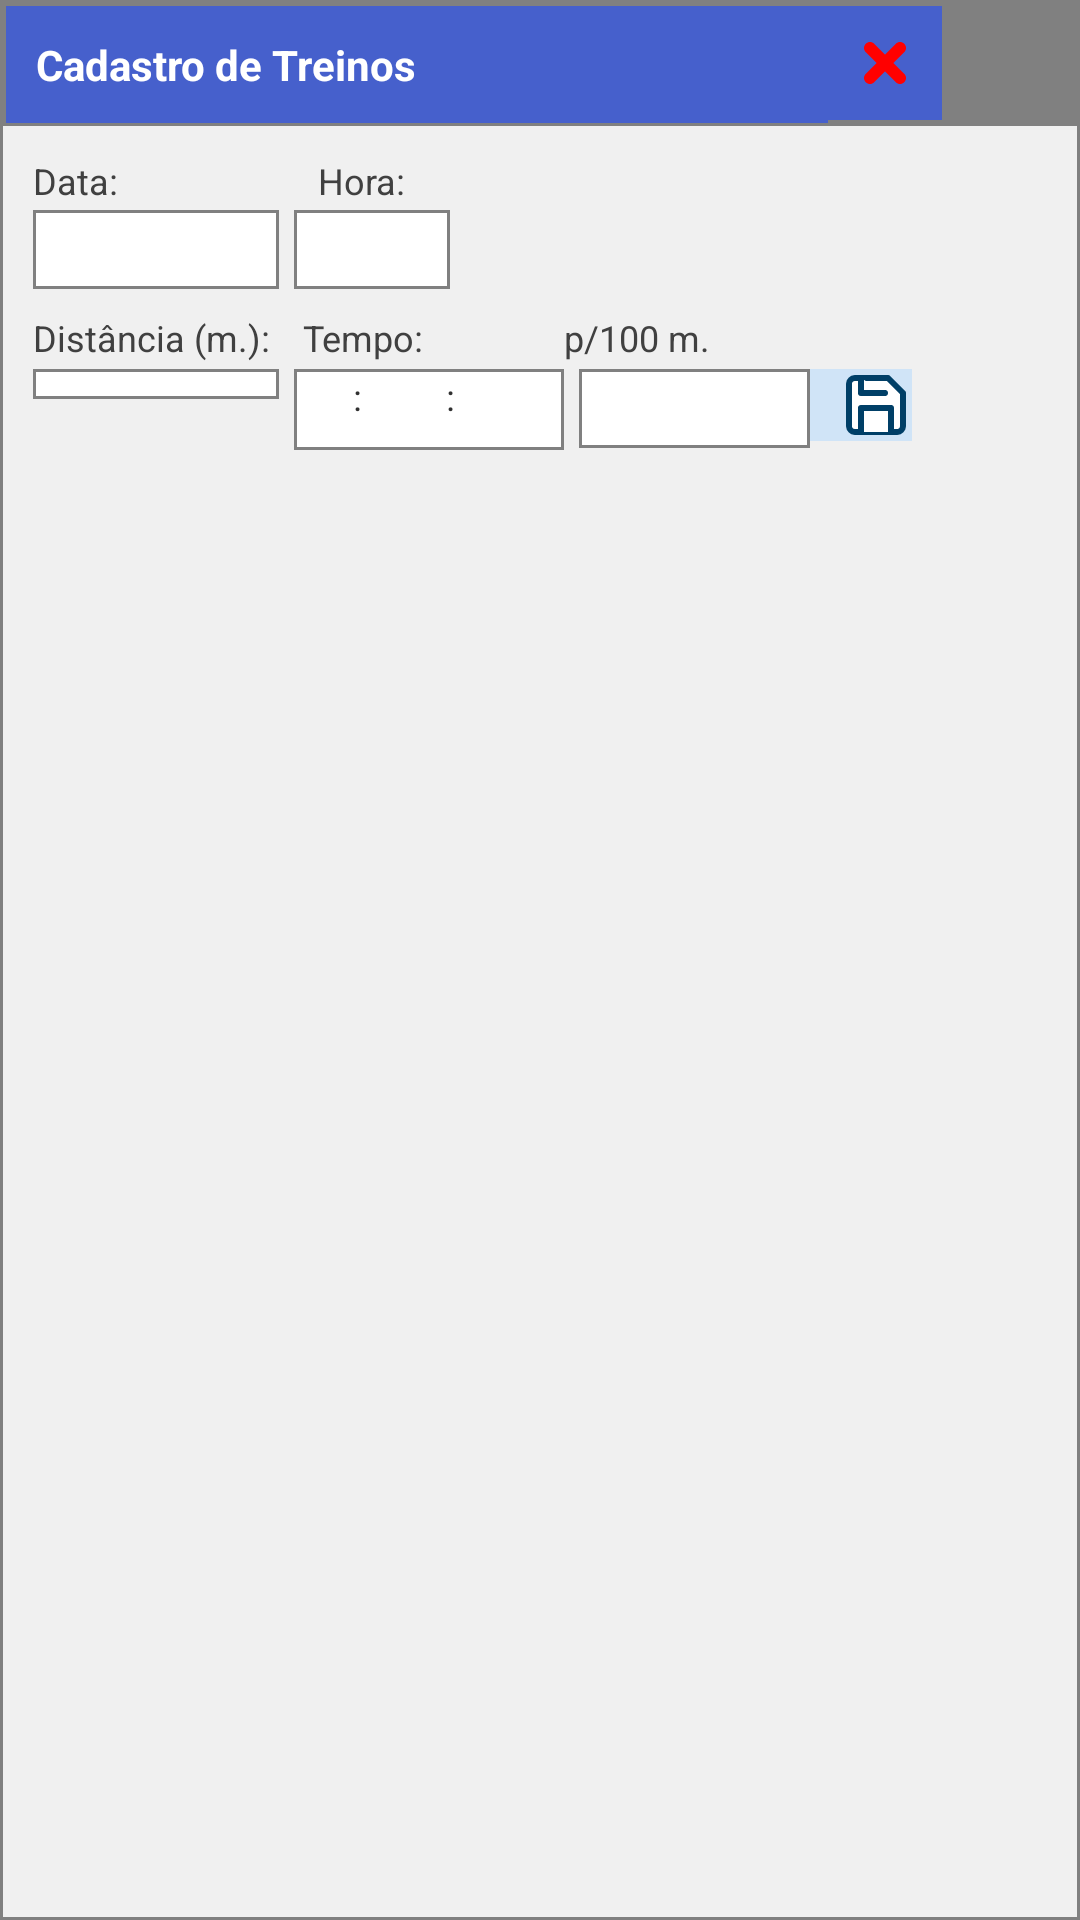

Where to tap for icons on this 1080 × 1920 app screen, as (x,y):
close: (885,63)
save: (861,405)
